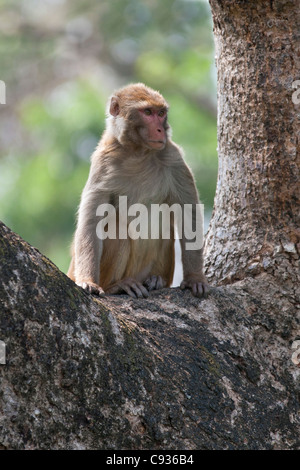monkey: (61, 76, 221, 305)
